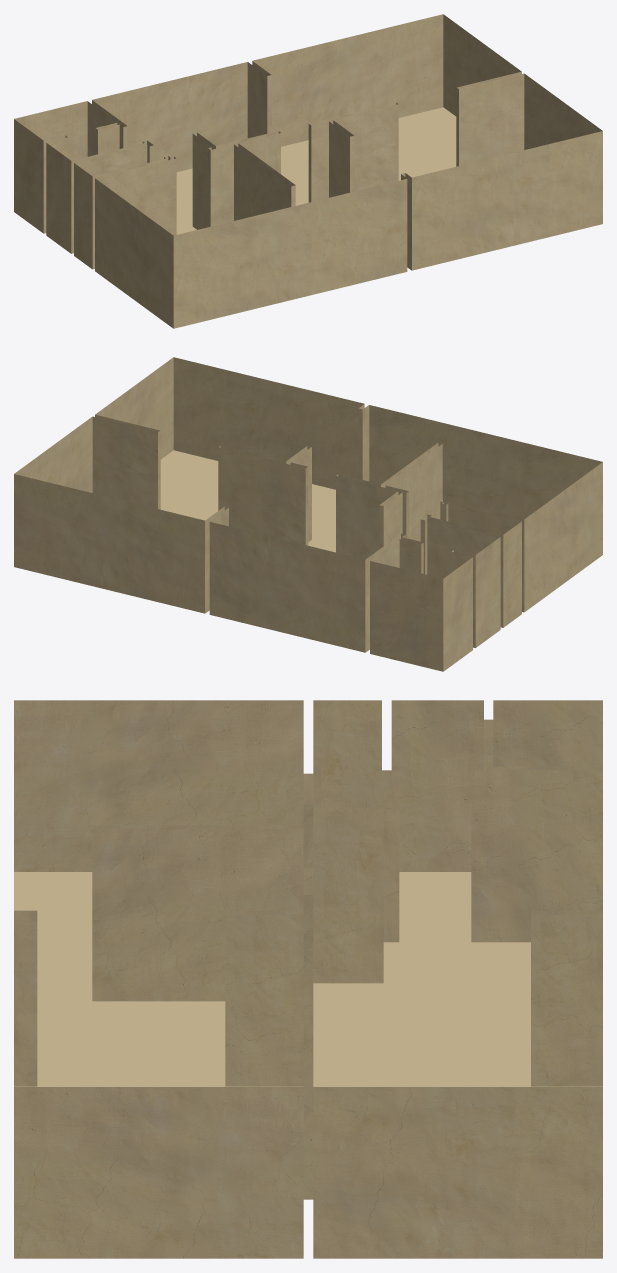
File: Haunted House V3.fbx
3 renders of one model, top to bottom at view 1: azimuth 30°, elevation 25°; view 2: azimuth 150°, elevation 25°; view 3: azimuth 270°, elevation 25°, orthographic. The views are drawn at different scales.
Visible parts, largest first — view 1: Plane; view 2: Plane; view 3: Plane.
Boxes of the visible parts, x1,y1,x2,y2 form: Plane: [14, 14, 602, 328]; Plane: [14, 357, 602, 671]; Plane: [14, 700, 602, 1258].
Size of the model in its own units: 1168 by 242 by 752.
